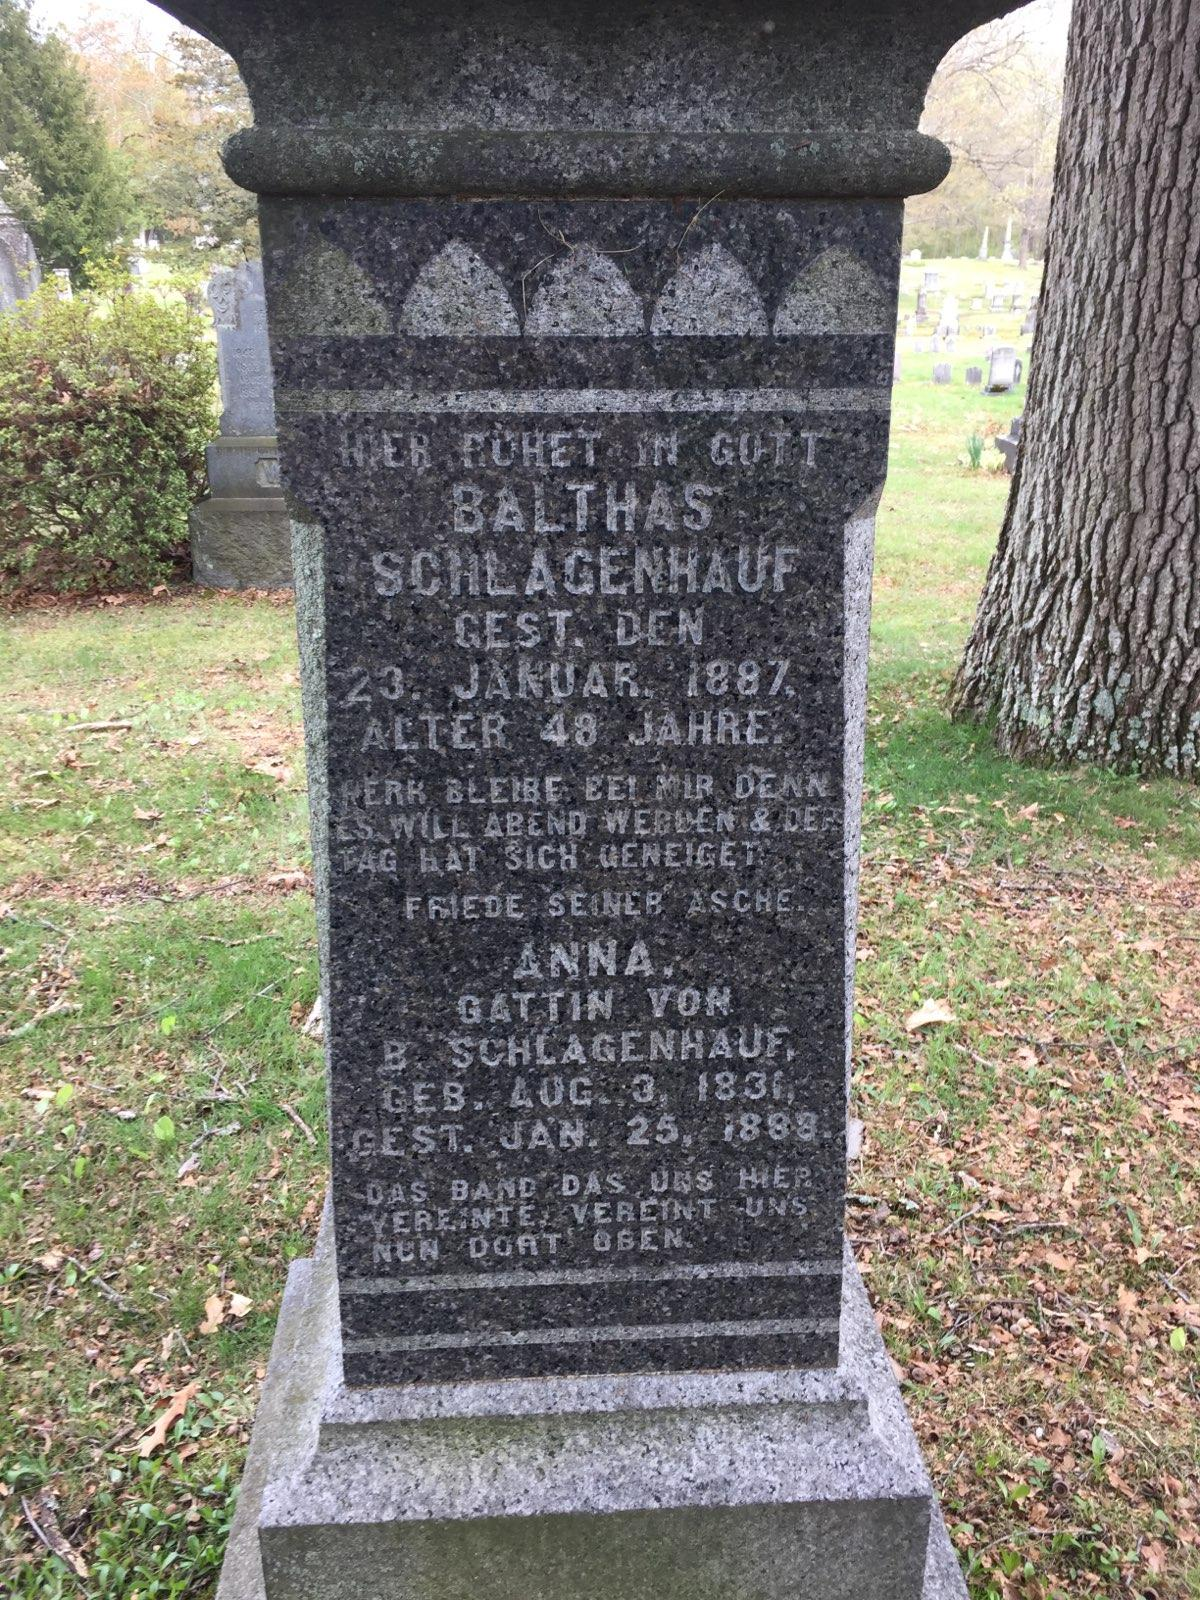obelisk: (156, 0, 1003, 1600)
